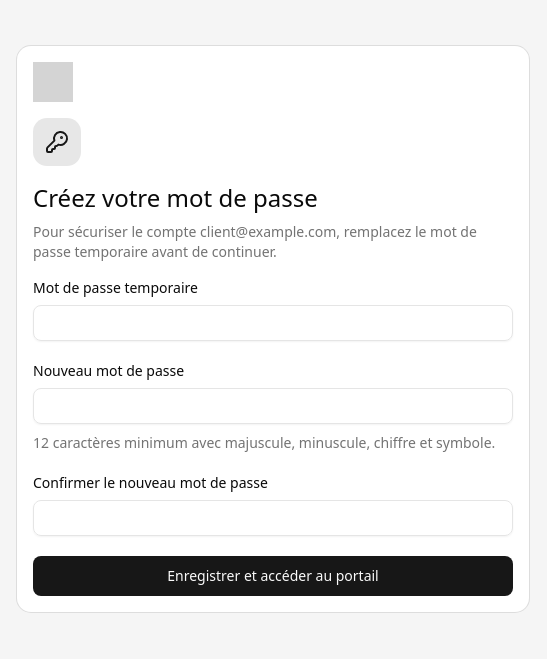
it: changement du mot de passe initial › bloque une confirmation différente
In the password field labelled "Mot de passe temporaire": x=273, y=323 x1=33 y1=305 x2=513 y2=341, type "Temporary#123"
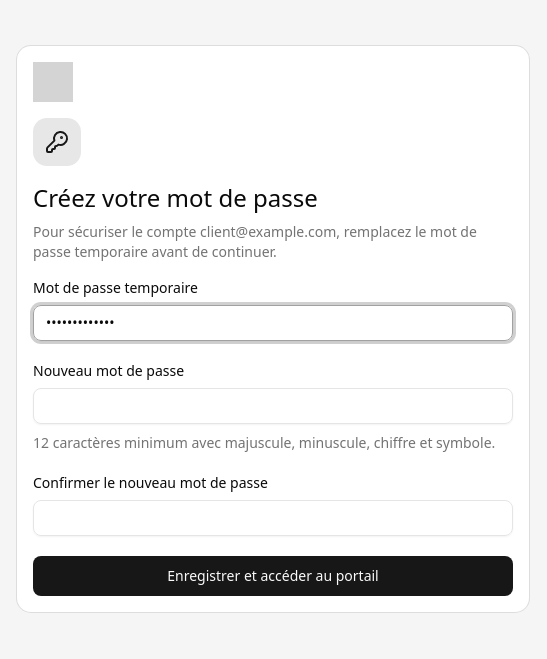
In the password field labelled "Nouveau mot de passe": x=273, y=406 x1=33 y1=388 x2=513 y2=424, type "NouveauMotDePasse#123"
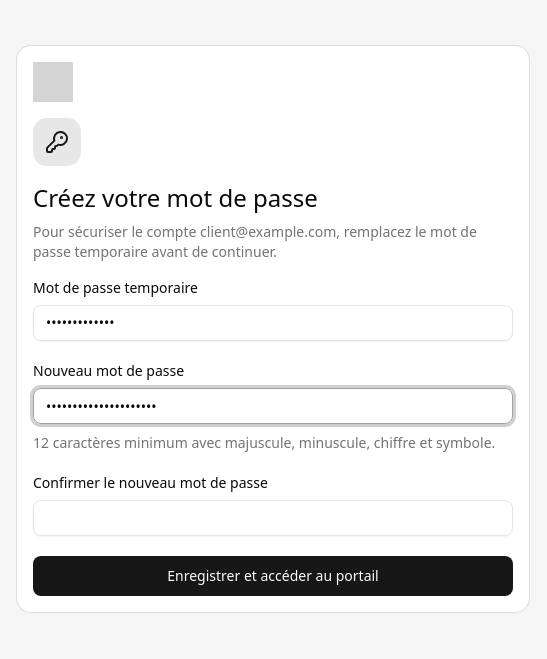
In the password field labelled "Confirmer le nouveau mot de passe": x=273, y=518 x1=33 y1=500 x2=513 y2=536, type "AutreMotDePasse#123"
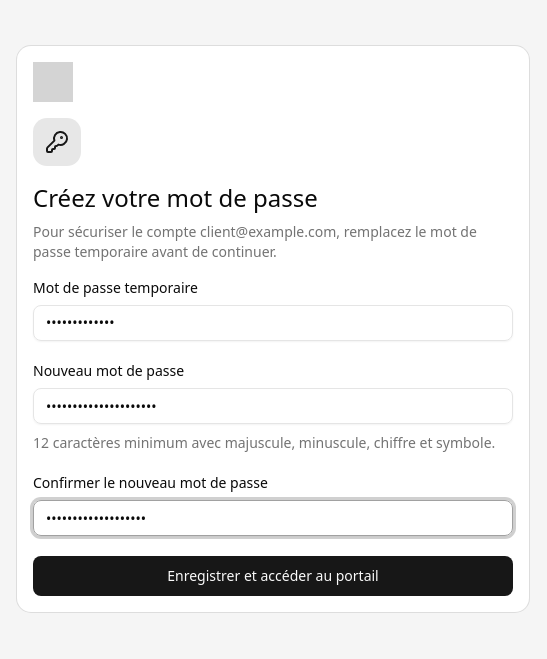
Click the button "Enregistrer et accéder au portail": x=273, y=576 x1=33 y1=556 x2=513 y2=596
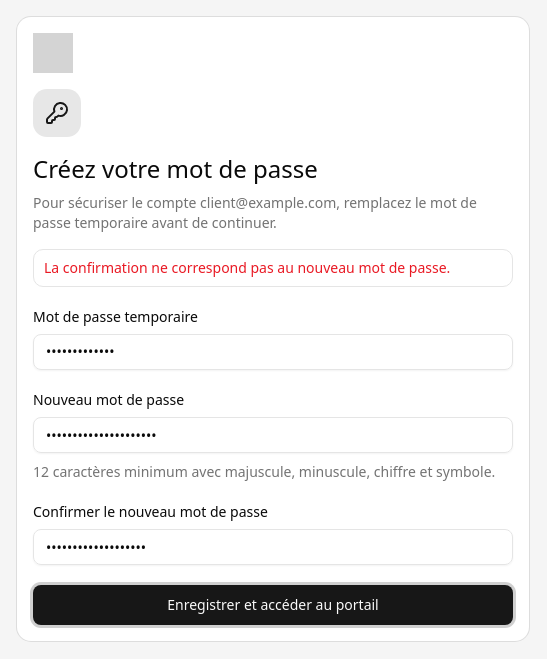
Result: the text "La confirmation ne correspond pas au nouveau mot de passe." is shown at x1=44 y1=258 x2=502 y2=278
